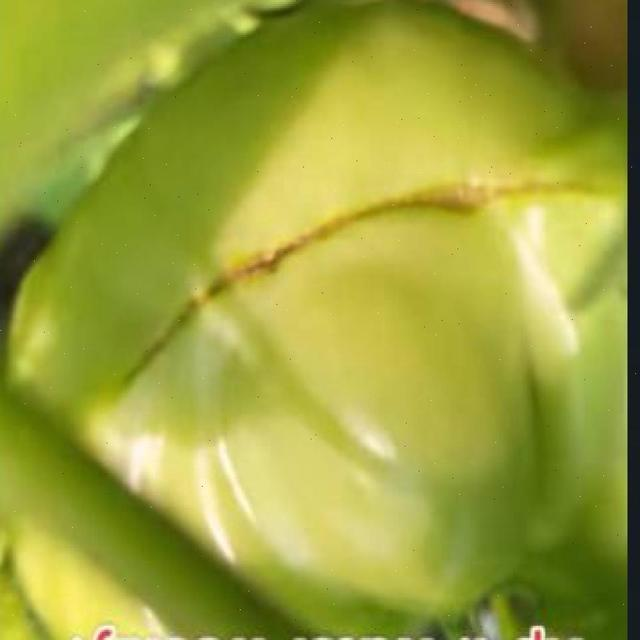Cracking Fruit: (65, 79, 422, 292)
